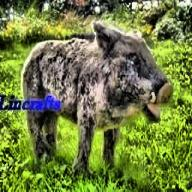boar: (20, 21, 172, 176)
